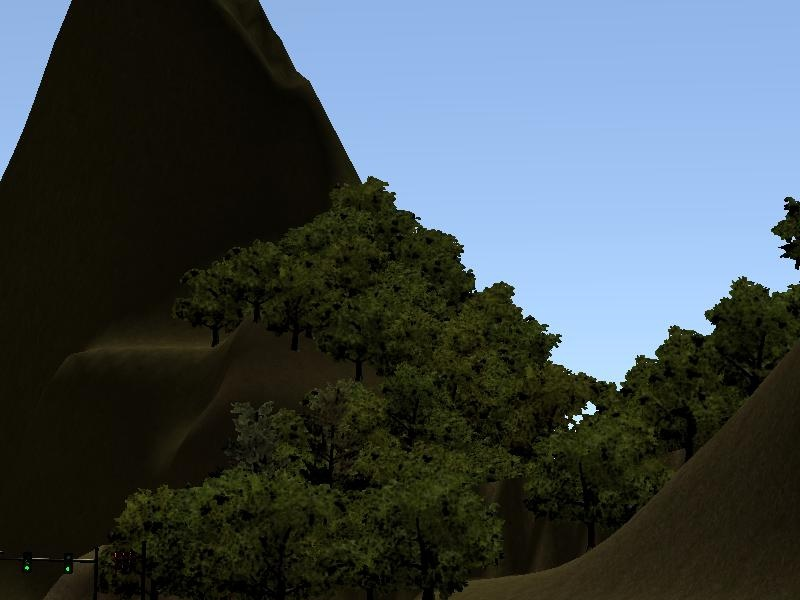GREEN: (17, 544, 38, 575), (60, 542, 76, 576)
